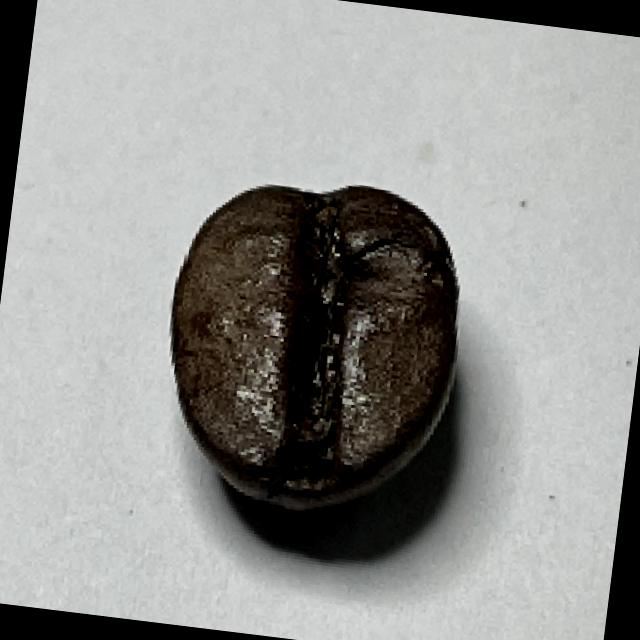bean: (139, 155, 482, 529)
